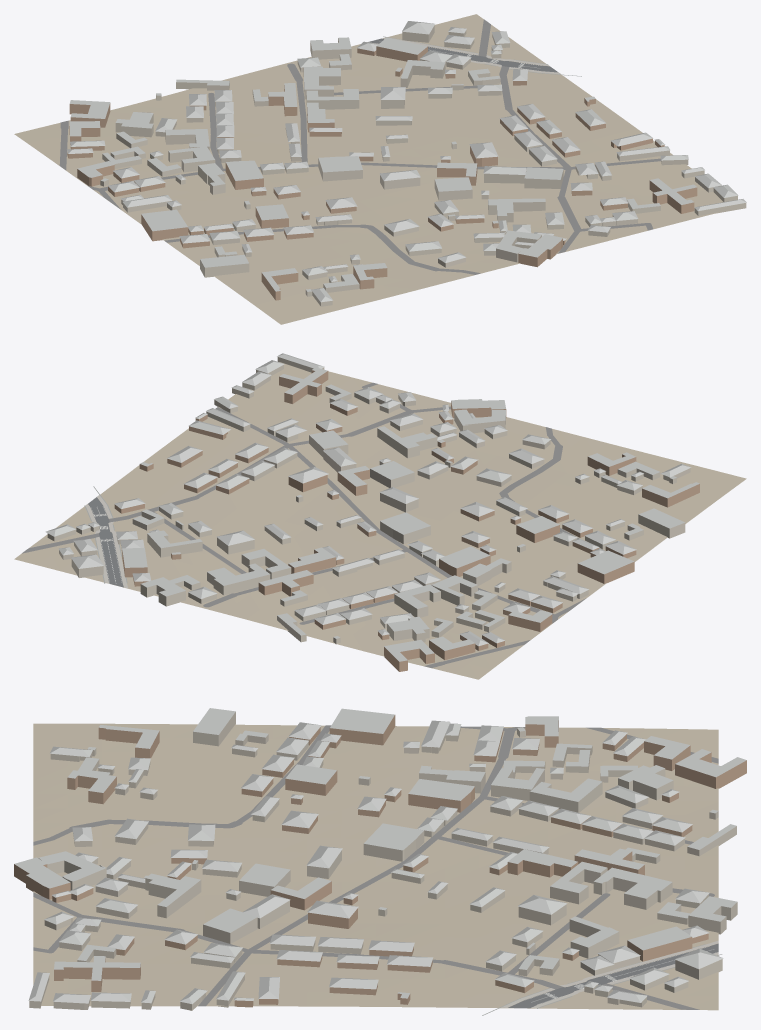
The model's file is bolak_1_7.glb.
3 views of the same model, one above another, from view 1: azimuth 30°, elevation 25°; view 2: azimuth 150°, elevation 25°; view 3: azimuth 270°, elevation 25° (orthographic). The views are drawn at different scales.
Visible parts, largest first — view 1: Yer_Tuproq-col, Tom_Shifer, Devor_Suvoq-col, Devor_Gisht-col, Yol_Mahalla-col, Yol_Asfalt-col, Trotuar; view 2: Yer_Tuproq-col, Tom_Shifer, Devor_Suvoq-col, Devor_Gisht-col, Yol_Mahalla-col, Yol_Asfalt-col, Trotuar; view 3: Yer_Tuproq-col, Tom_Shifer, Devor_Suvoq-col, Devor_Gisht-col, Yol_Mahalla-col, Yol_Asfalt-col, Trotuar.
Part boxes in pixels (x1,y1,x2,y2): Yer_Tuproq-col: [14, 14, 723, 324]; Tom_Shifer: [67, 21, 746, 302]; Devor_Suvoq-col: [100, 25, 746, 306]; Devor_Gisht-col: [67, 46, 697, 300]; Yol_Mahalla-col: [59, 19, 660, 274]; Yol_Asfalt-col: [368, 38, 558, 72]; Trotuar: [367, 37, 560, 74]; Yer_Tuproq-col: [14, 362, 746, 679]; Tom_Shifer: [45, 353, 699, 661]; Devor_Suvoq-col: [47, 357, 690, 644]; Devor_Gisht-col: [114, 370, 699, 671]; Yol_Mahalla-col: [22, 382, 604, 667]; Yol_Asfalt-col: [88, 497, 123, 587]; Trotuar: [85, 495, 127, 588]; Yer_Tuproq-col: [33, 723, 718, 1010]; Tom_Shifer: [14, 708, 746, 1004]; Devor_Suvoq-col: [29, 712, 737, 1010]; Devor_Gisht-col: [14, 715, 746, 1007]; Yol_Mahalla-col: [33, 725, 718, 1009]; Yol_Asfalt-col: [508, 943, 718, 1008]; Trotuar: [501, 940, 718, 1008].
Size of what is drawn, in the model's own units: 419 by 17.2 by 428.
